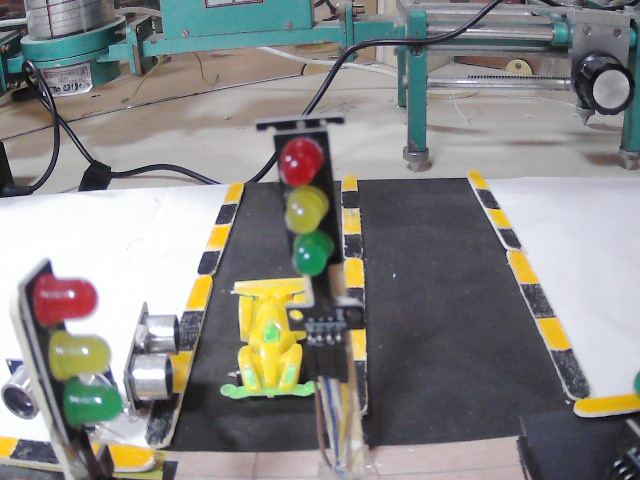black_strip: (553, 349, 589, 399), (150, 396, 179, 442), (518, 284, 553, 316), (176, 308, 204, 346), (347, 355, 366, 405), (11, 442, 53, 460), (215, 200, 238, 224), (195, 248, 222, 268), (475, 184, 495, 208), (343, 232, 361, 258), (497, 227, 515, 246), (343, 188, 358, 208)
car: (226, 276, 312, 401)
mixed_lane: (468, 177, 634, 413), (149, 177, 243, 454), (339, 174, 364, 301), (0, 436, 57, 467), (347, 328, 368, 412), (92, 441, 156, 465)
traffic_light: (255, 116, 354, 329), (15, 264, 117, 446)
uno_breadboard: (119, 304, 184, 411), (0, 358, 40, 417)
yellow_strip: (577, 392, 636, 412), (537, 316, 569, 347), (183, 272, 210, 308), (105, 444, 152, 463), (508, 250, 534, 281), (202, 224, 230, 250), (346, 256, 365, 288), (348, 326, 366, 359), (171, 347, 188, 380), (223, 176, 242, 201), (484, 208, 508, 227), (343, 207, 358, 232), (0, 436, 17, 457), (471, 171, 491, 188), (342, 177, 358, 192)
